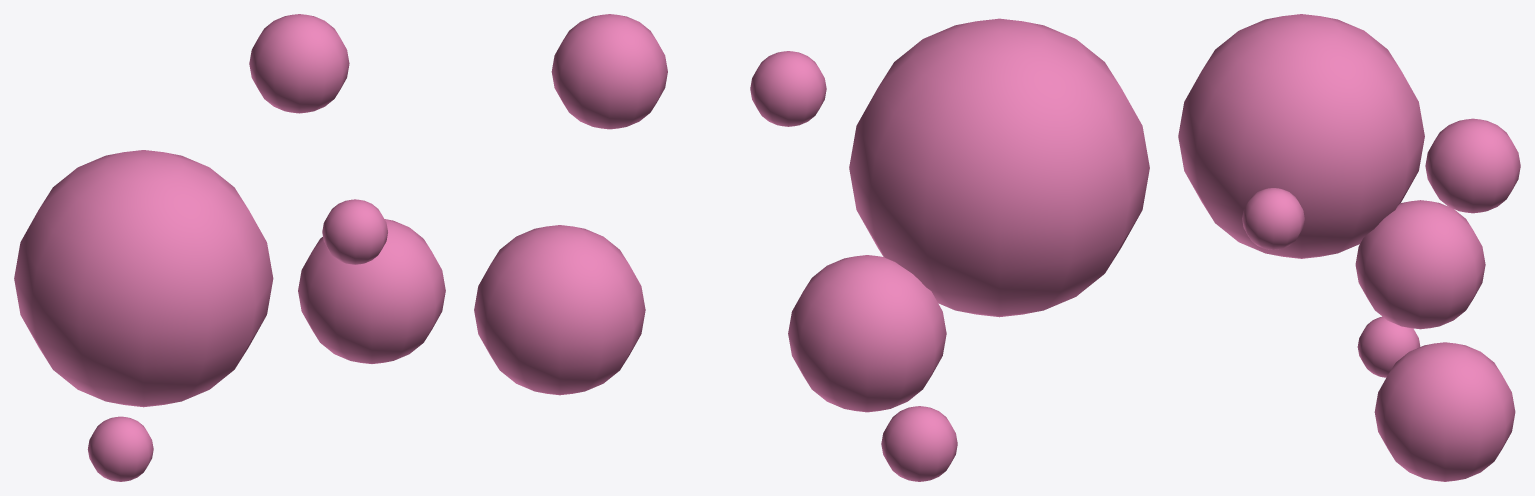
File: asset.glb
The picture shows the model from 3 angles, left to right: view 1: azimuth 30°, elevation 25°; view 2: azimuth 150°, elevation 25°; view 3: azimuth 270°, elevation 25°; orthographic projection. The views are drawn at different scales.
Visible parts, largest first — view 1: Sphere.001, Sphere, Sphere.004, Sphere.005, Sphere.002; view 2: Sphere.001, Sphere, Sphere.003, Sphere.004, Sphere.002, Sphere.005; view 3: Sphere.001, Sphere, Sphere.003, Sphere.004, Sphere.002, Sphere.005.
Boxes of the visible parts, x1,y1,x2,y2 form: Sphere.001: [14, 150, 273, 407]; Sphere: [298, 219, 445, 363]; Sphere.004: [249, 14, 349, 113]; Sphere.005: [87, 416, 153, 481]; Sphere.002: [322, 199, 387, 264]; Sphere.001: [849, 18, 1149, 317]; Sphere: [474, 225, 645, 395]; Sphere.003: [788, 255, 946, 412]; Sphere.004: [551, 14, 667, 129]; Sphere.002: [750, 51, 826, 126]; Sphere.005: [881, 406, 957, 481]; Sphere.001: [1178, 14, 1424, 258]; Sphere: [1374, 342, 1515, 481]; Sphere.003: [1355, 200, 1485, 329]; Sphere.004: [1425, 118, 1520, 213]; Sphere.002: [1242, 188, 1304, 249]; Sphere.005: [1357, 316, 1420, 377].
Size of the model in its own units: 11.05 by 8.23 by 7.18.
